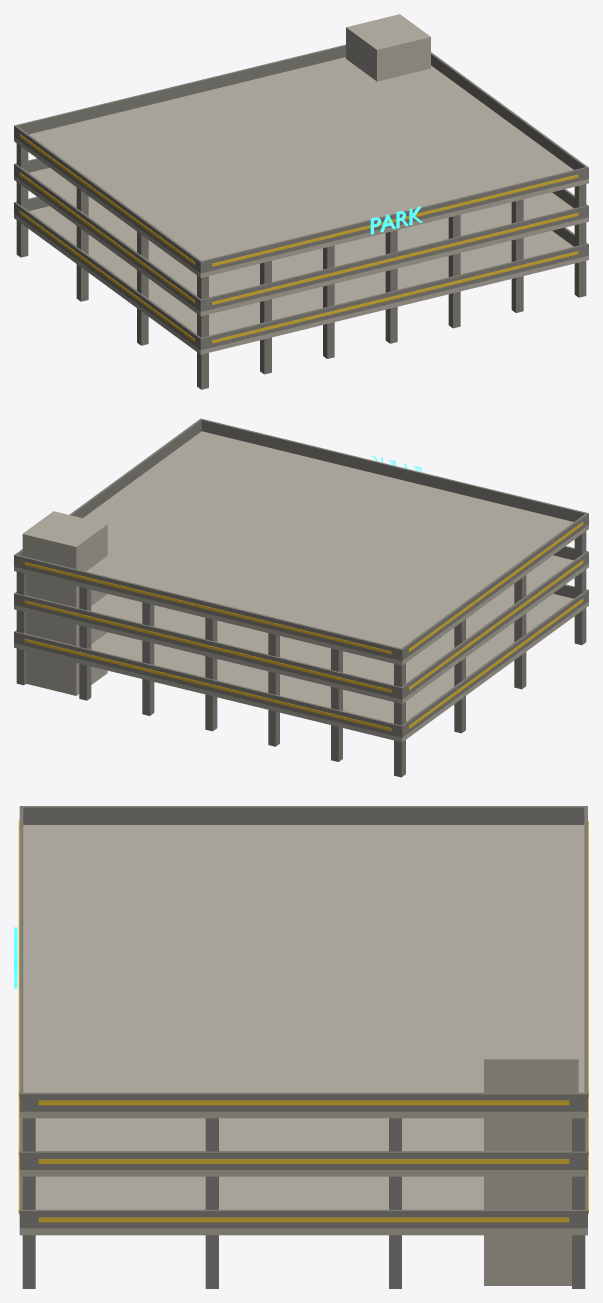
Rendered from parking.glb.
3 views of the same model, one above another, from view 1: azimuth 30°, elevation 25°; view 2: azimuth 150°, elevation 25°; view 3: azimuth 270°, elevation 25° (orthographic). The views are drawn at different scales.
Parts seen in each view (by area): view 1: parking; view 2: parking; view 3: parking.
Part boxes in pixels (x1,y1,x2,y2): parking: (14, 14, 588, 389); parking: (14, 418, 588, 777); parking: (14, 806, 588, 1288).
Size of what is drawn, in the model's own units: 36.09 by 13.2 by 30.35.
